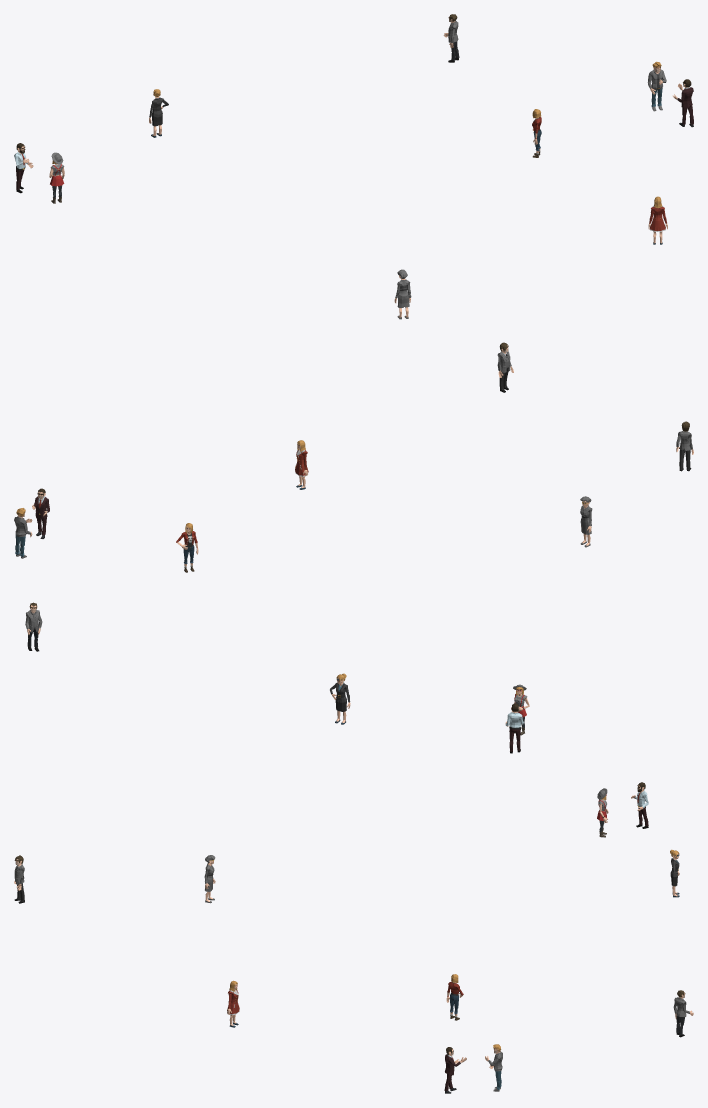
Rendered from Arena_NPCs.glb.
3 renders of one model, top to bottom at view 1: azimuth 30°, elevation 25°; view 2: azimuth 150°, elevation 25°; view 3: azimuth 270°, elevation 25°, orthographic. The views are drawn at different scales.
Parts seen in each view (by area): view 1: people_bar_04, people_amy_04; view 2: people_amy_01, people_amy_07, people_amy_06, people_bar_04, people_bar_03, people_amy_02, people_amy_03; view 3: no part large enough to name.
Boxes of the visible parts, x1,y1,x2,y2 form: people_bar_04: (647,61,666,111); people_amy_04: (648,196,667,244); people_amy_01: (676,421,693,471); people_amy_07: (330,673,350,724); people_amy_06: (25,602,42,651); people_bar_04: (14,508,32,558); people_bar_03: (176,523,198,572); people_amy_02: (505,703,523,753); people_amy_03: (32,488,49,538).
Size of the model in its own units: 23.58 by 2.01 by 25.1.
2 materials, 2 textured.
